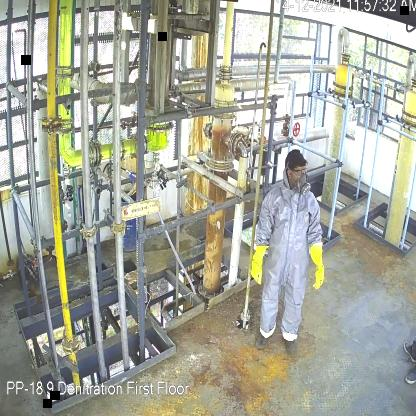goggles: (291, 166, 307, 176)
mask: (293, 174, 310, 197)
